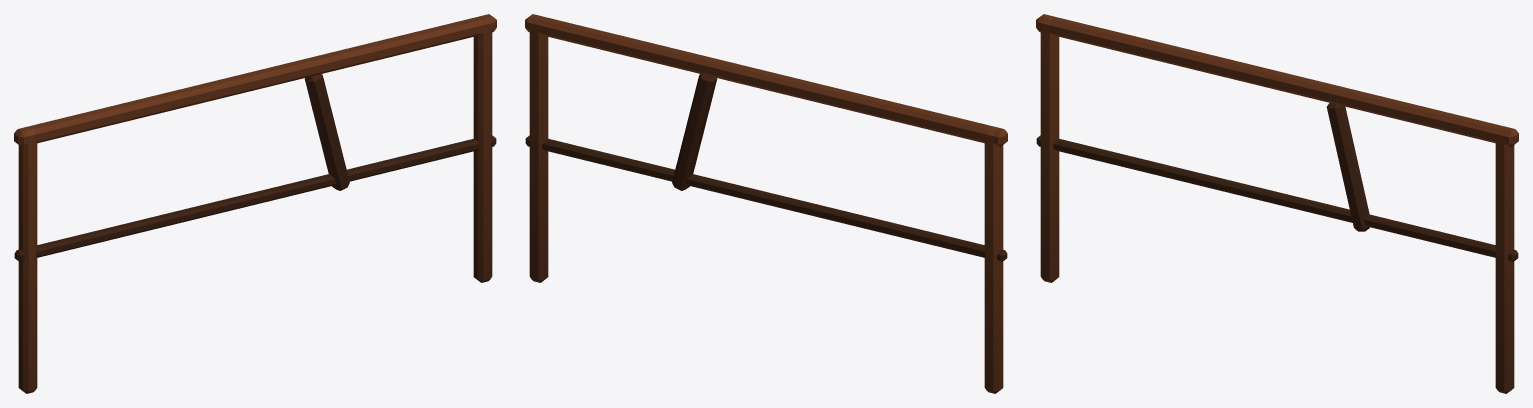
The model's file is railing.glb.
3 renders of one model, left to right at view 1: azimuth 30°, elevation 25°; view 2: azimuth 150°, elevation 25°; view 3: azimuth 330°, elevation 25°, orthographic.
Parts seen in each view (by area): view 1: railing; view 2: railing; view 3: railing.
Boxes of the visible parts, <box> form: railing: <box>14,14,496,393</box>; railing: <box>525,14,1007,393</box>; railing: <box>1036,14,1518,393</box>.
Bounding box in the file's own units: 2 × 1.05 × 0.06.
